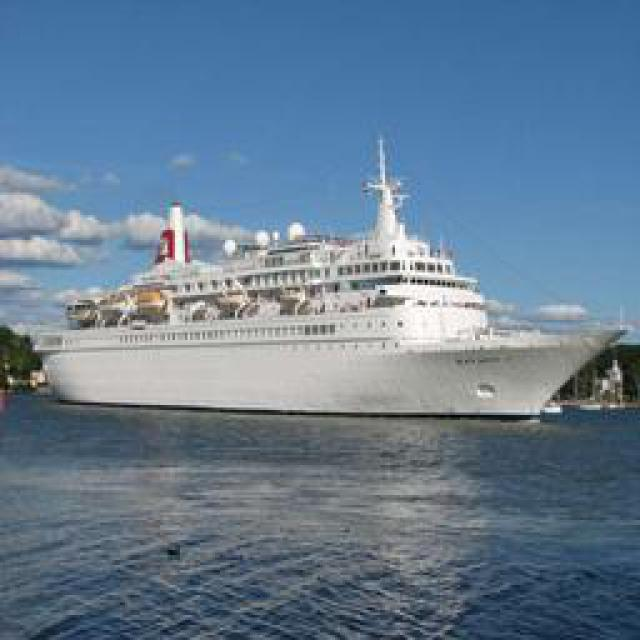Ship: (42, 126, 625, 421)
